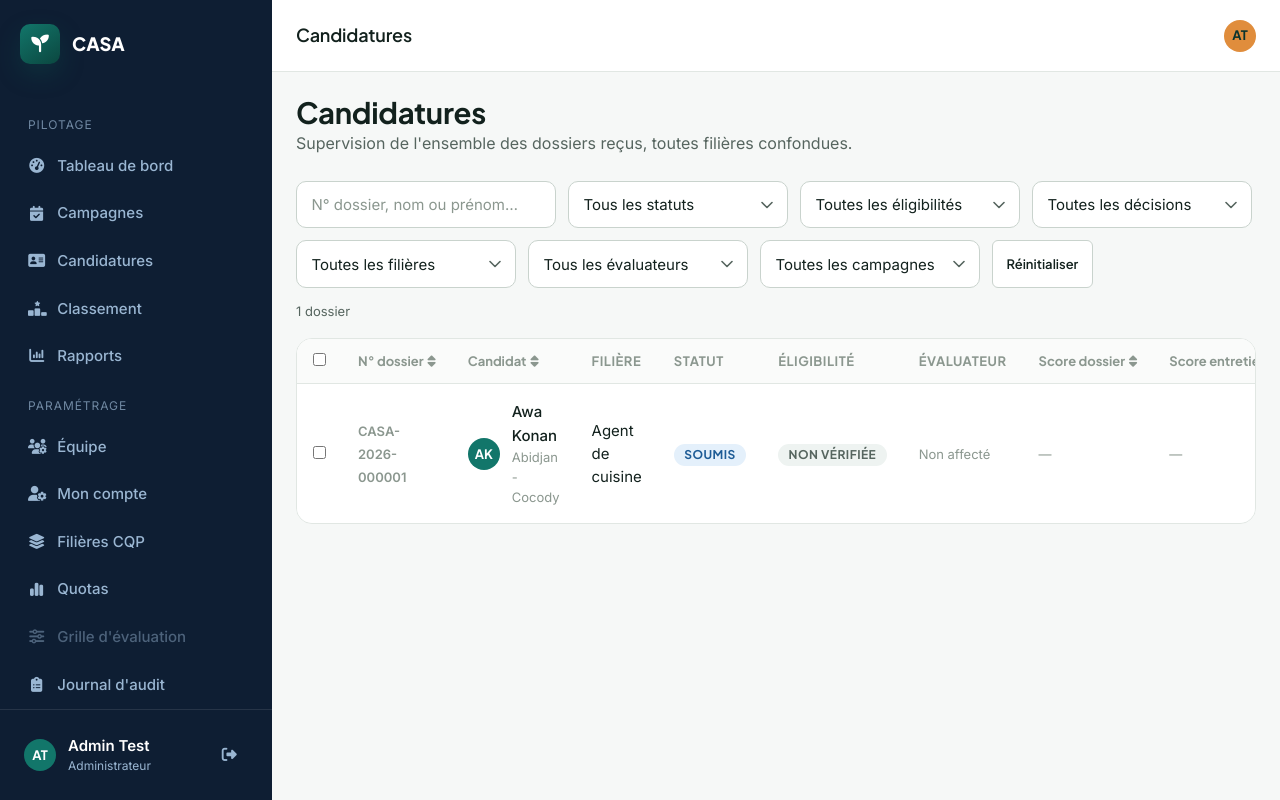
it: CandidaturesSupervision — affectation en masse (atomique) › sélection -> affecter -> succès -> POST correct, sélection vidée, liste rechargée
The image size is (1280, 800).
Expected: the text "CASA-2026-000001" is shown, x1=358 y1=423 x2=406 y2=485
Click the checkbox named "sélectionner casa-2026-000001": (320, 453) x1=313 y1=446 x2=326 y2=459
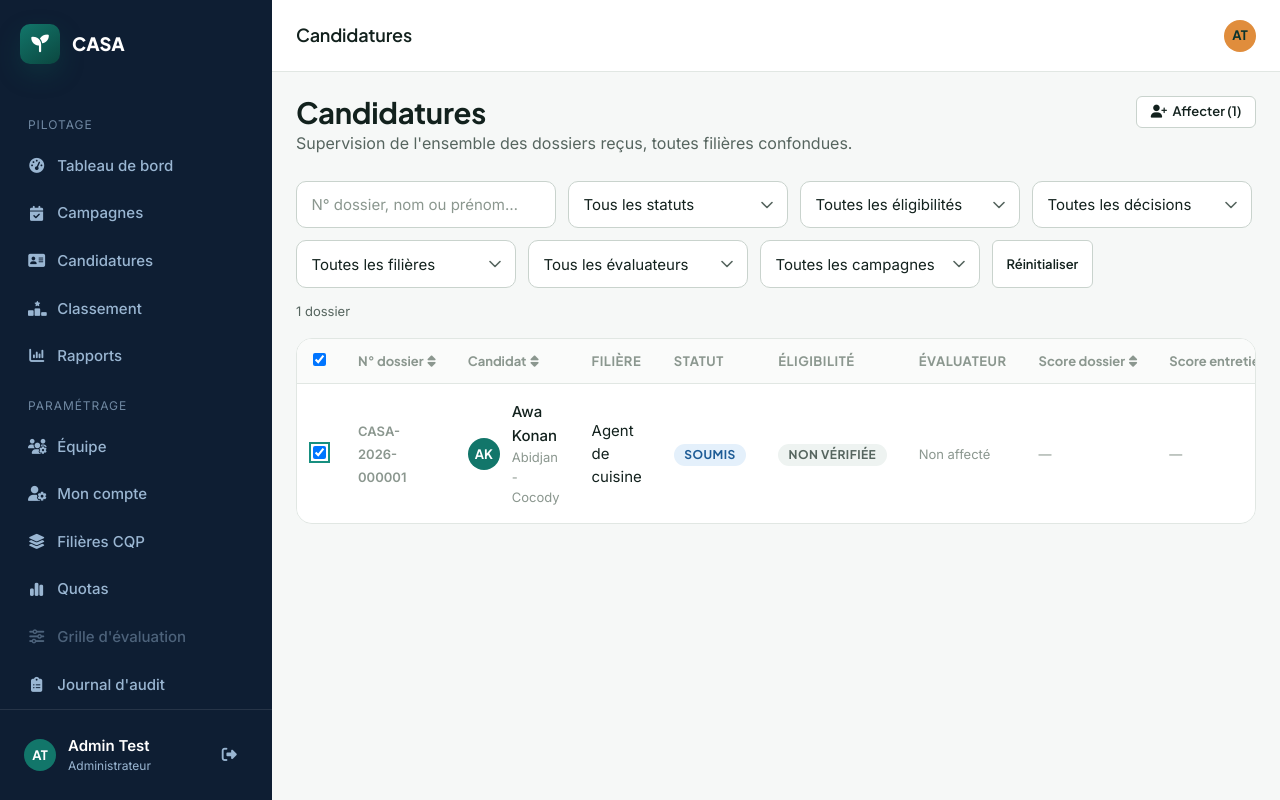
Click the button "Affecter (1)": (1196, 112) x1=1136 y1=96 x2=1256 y2=128
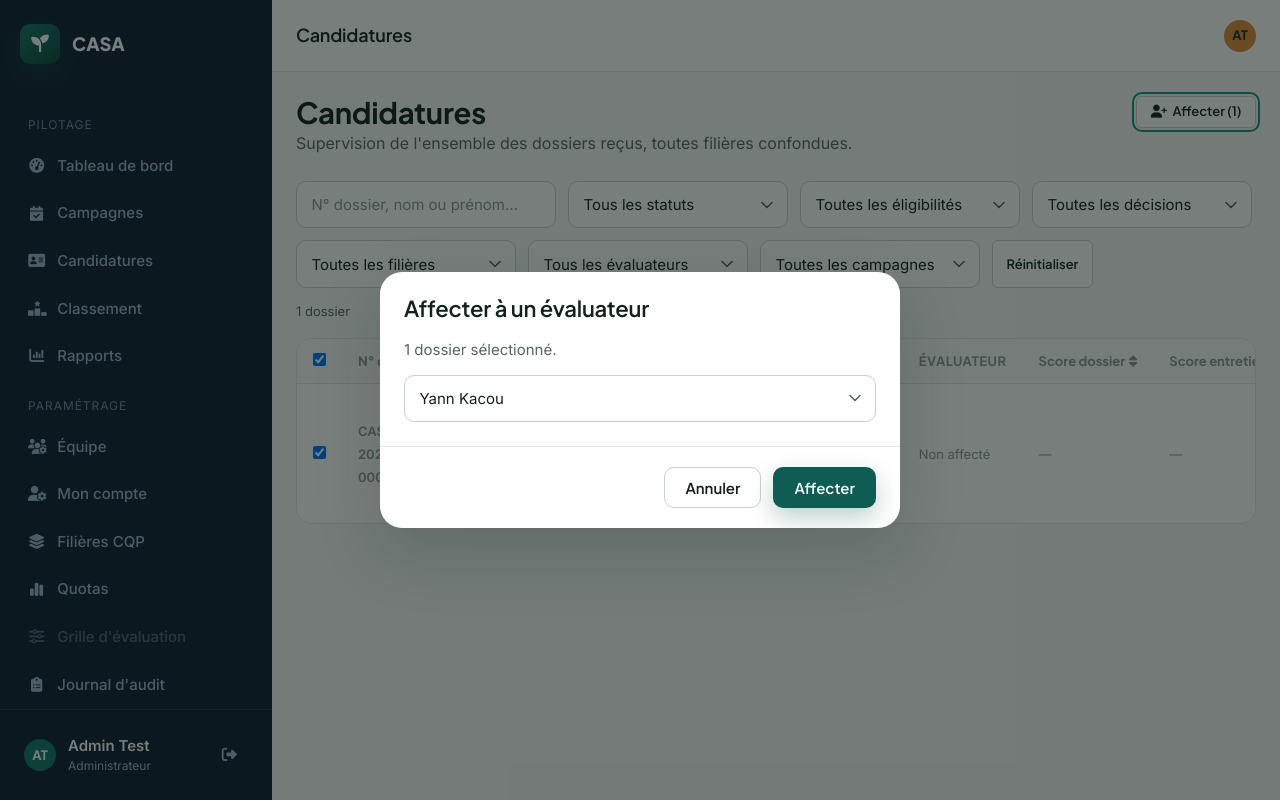
Select "Yann Kacou" in the dropdown named "Évaluateur": (640, 398) x1=404 y1=375 x2=876 y2=422
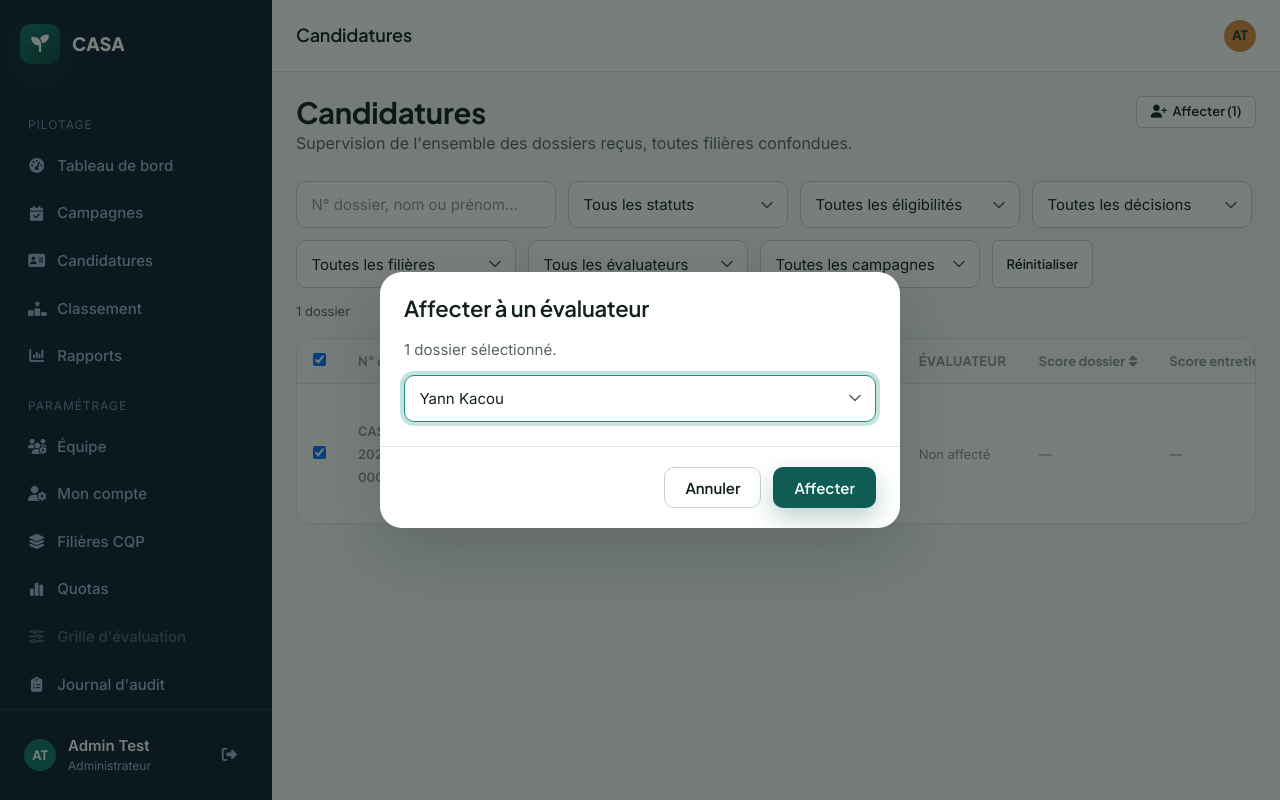
Click the button "Affecter": (825, 488) x1=774 y1=467 x2=876 y2=508
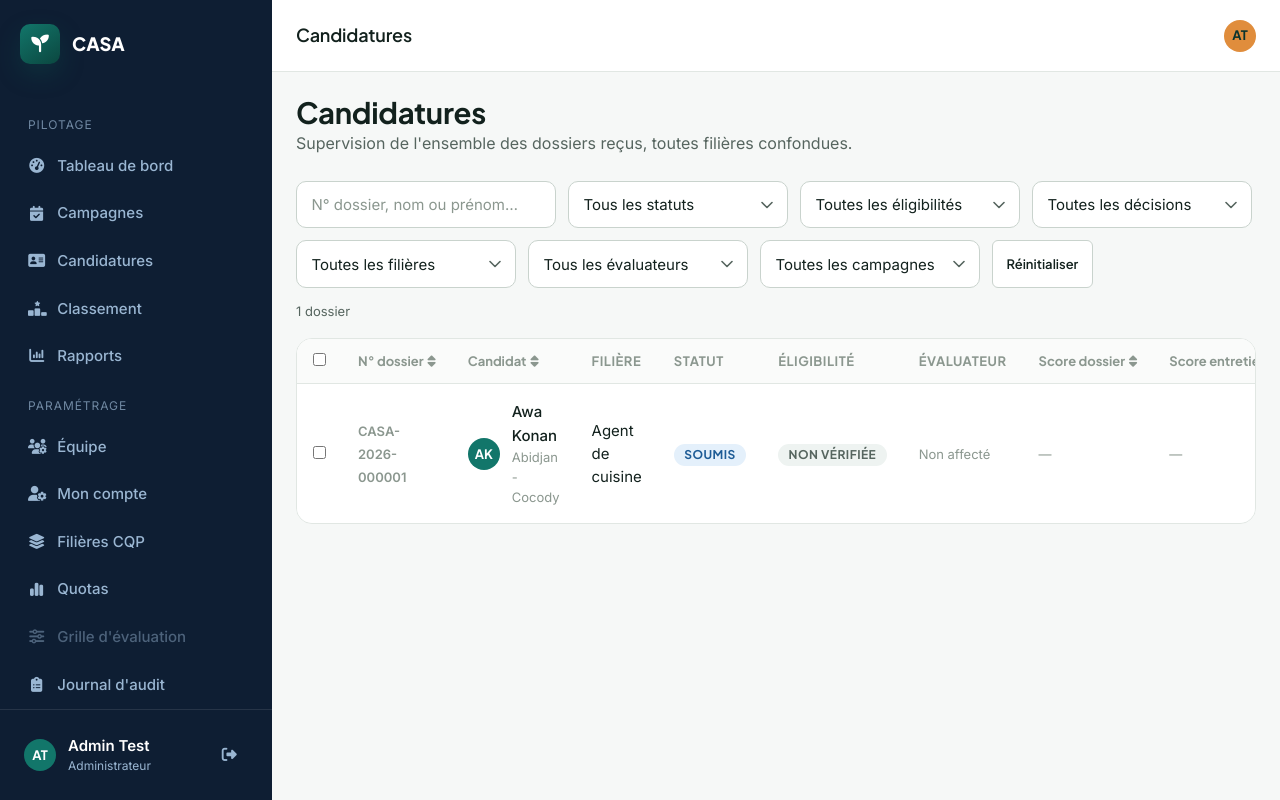
Result: the dialog is gone
Result: the button "Affecter (" is gone
